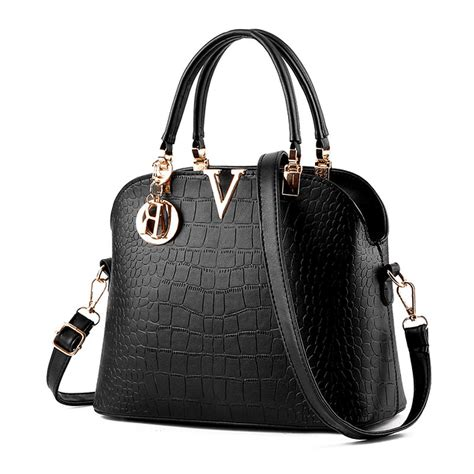cuero: (46, 28, 433, 441)
